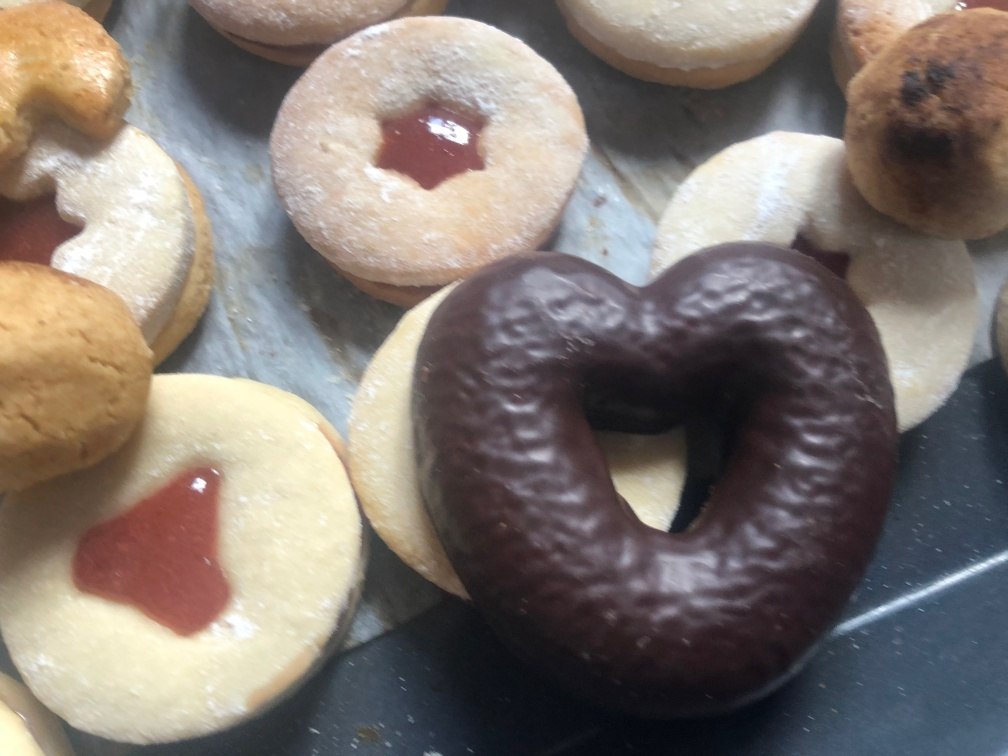christmas shortbread with jam: (5, 362, 359, 734), (269, 15, 582, 298), (1, 121, 215, 365)
heart: (417, 243, 899, 728)
snowball: (842, 4, 1008, 240)
